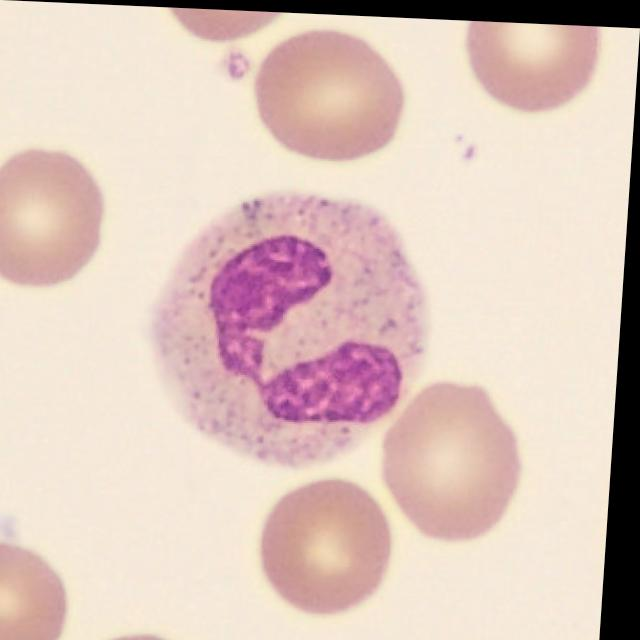Neutrofilo segmentado: (157, 188, 432, 463)
